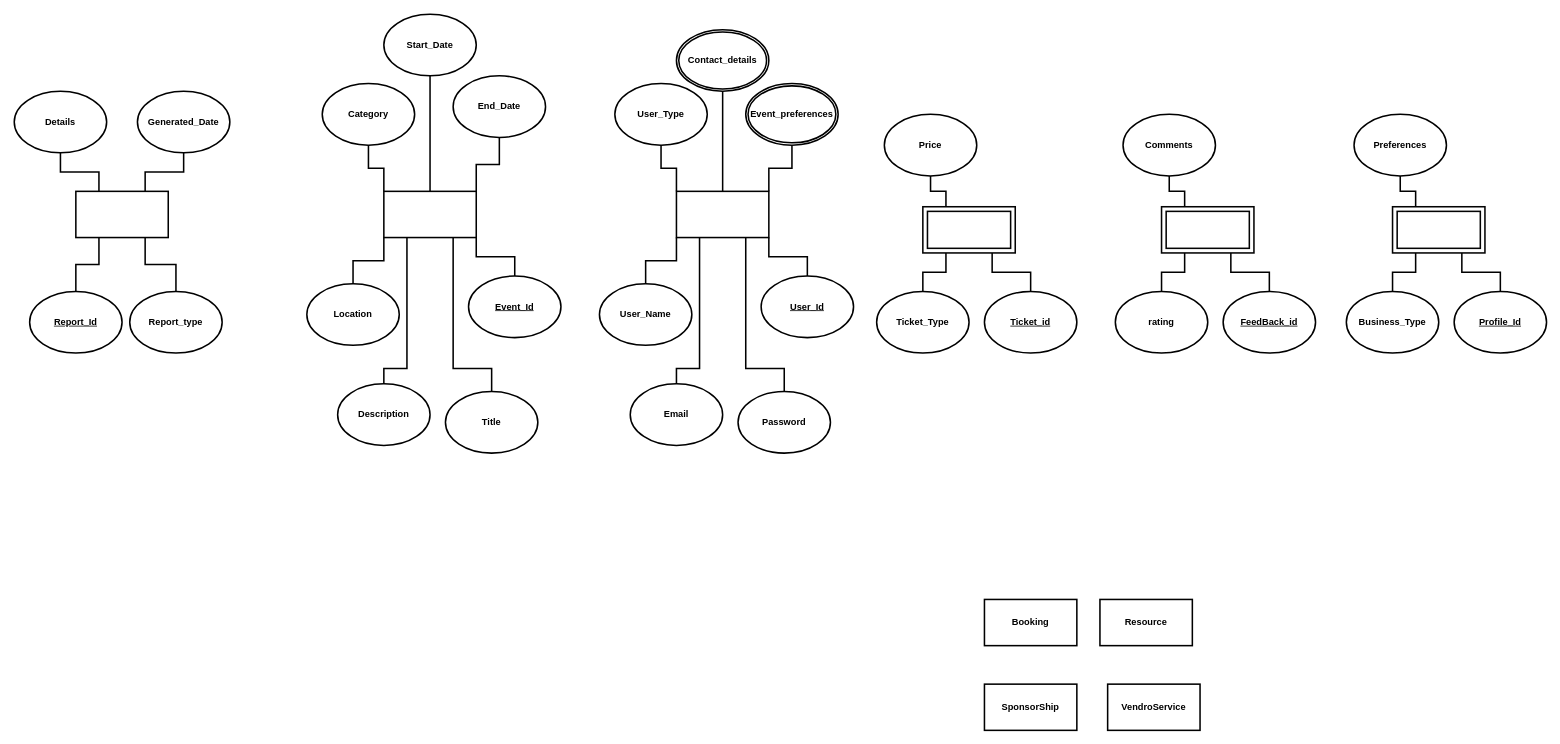
Image size: 1560x744. Some labels were removed from this diagram. The shapes that lost their labels are listed below. From the top down, each one's centre as x and y in pixels, then its label:
(x=122, y=214): Report
(x=430, y=214): Event
(x=722, y=214): User
(x=969, y=229): Ticket
(x=1207, y=229): Feed_Back
(x=1438, y=229): Profile
